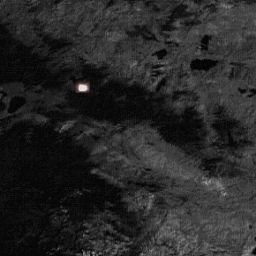Target: (76, 81, 89, 92)
